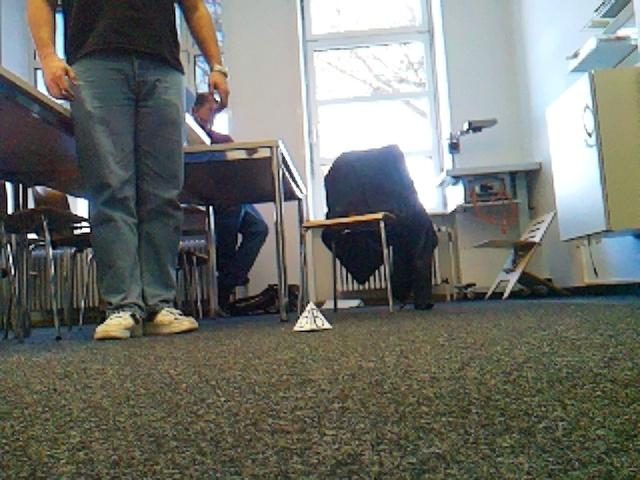B: (293, 302, 332, 330)
